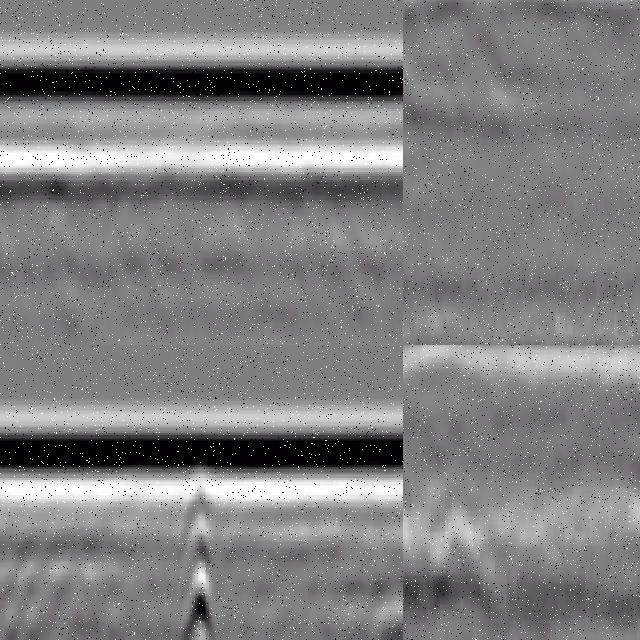crack: (177, 470, 218, 640)
